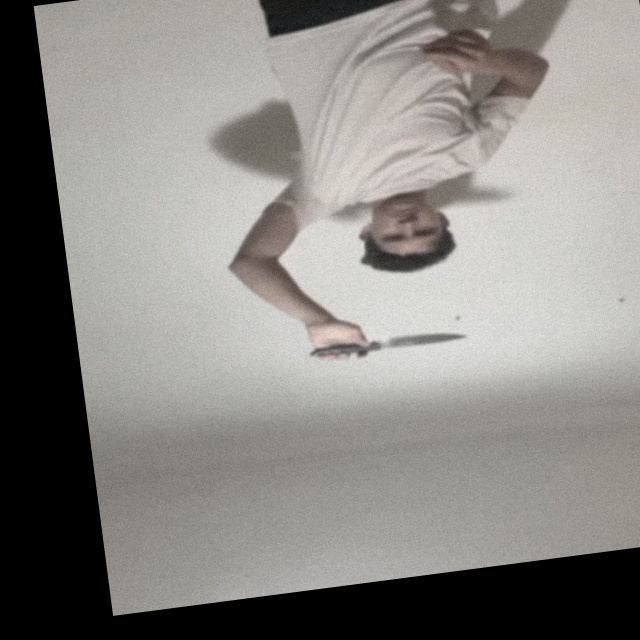Sharp-Object: (372, 326, 473, 354)
